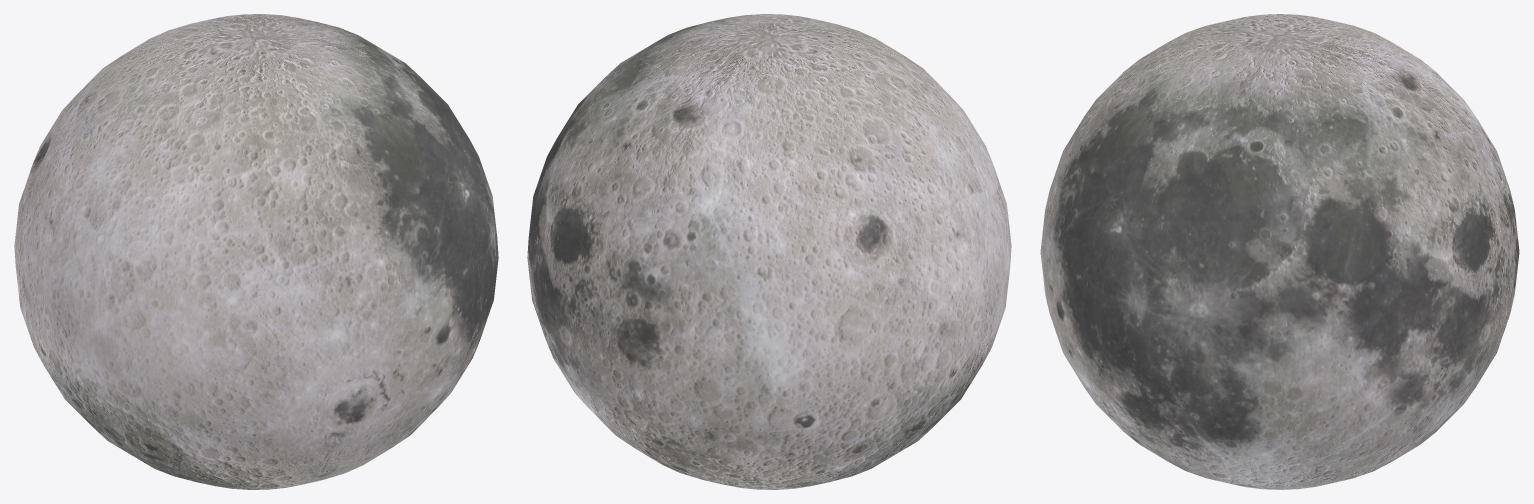
Rendered from moon.glb.
The picture shows the model from 3 angles, left to right: view 1: azimuth 30°, elevation 25°; view 2: azimuth 150°, elevation 25°; view 3: azimuth 270°, elevation 25°; orthographic projection.
Parts seen in each view (by area): view 1: Sphere; view 2: Sphere; view 3: Sphere.
Part boxes in pixels (bbox=[...]): Sphere: bbox=[14, 14, 498, 489]; Sphere: bbox=[527, 14, 1011, 489]; Sphere: bbox=[1040, 14, 1519, 489].
Bounding box in the file's own units: 0.8365 × 0.8164 × 0.8241.
Materials: 1 (1 with a texture image).
